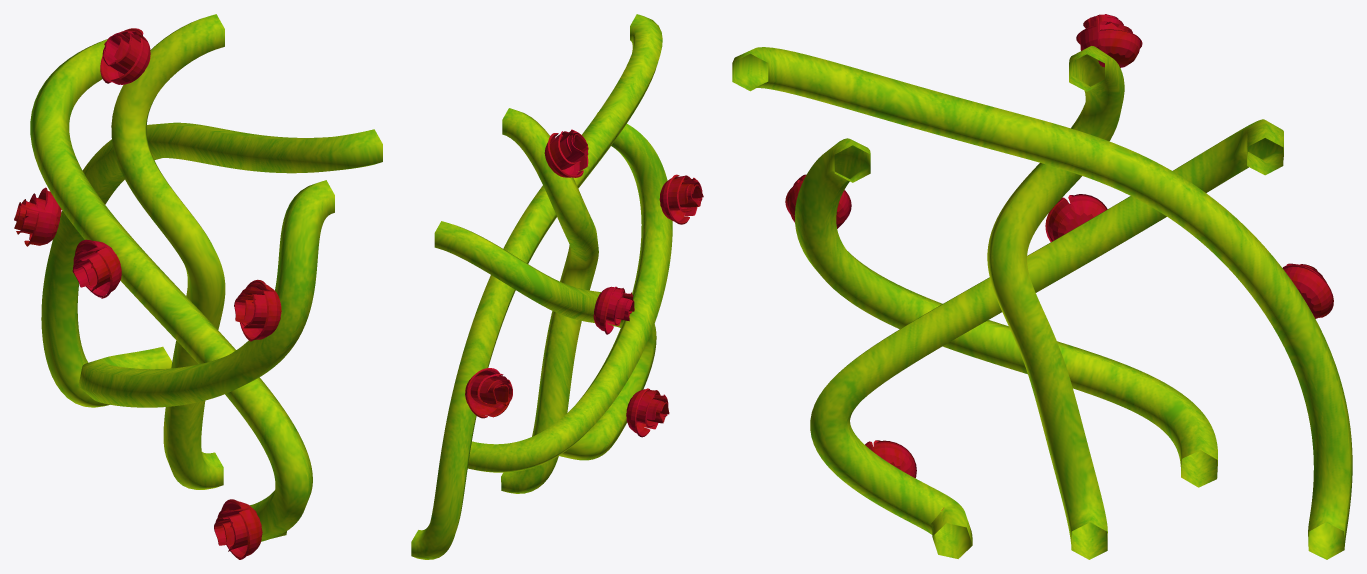
File: Rosedal.fbx
3 views of the same model, side by side, from view 1: azimuth 30°, elevation 25°; view 2: azimuth 150°, elevation 25°; view 3: azimuth 270°, elevation 25° (orthographic). The views are drawn at different scales.
Visible parts, largest first — view 1: NurbsPath; view 2: NurbsPath; view 3: NurbsPath.
Boxes of the visible parts, x1=… form: NurbsPath: x1=14, y1=14, x2=382, y2=559; NurbsPath: x1=411, y1=14, x2=703, y2=559; NurbsPath: x1=732, y1=14, x2=1352, y2=559.
Bounding box in the file's own units: 172 × 537 × 596.
